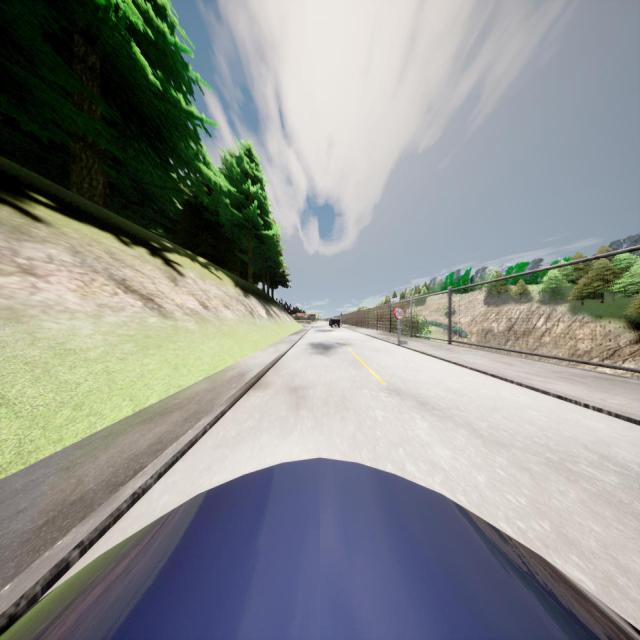Traffic_Signs: (394, 308, 404, 320)
Vehicle: (1, 457, 640, 640), (329, 317, 341, 328)
traffic_light: (340, 312, 342, 316)
